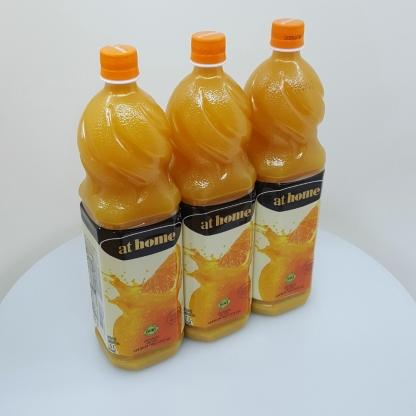-------1-5L: (77, 44, 185, 371), (165, 31, 257, 341), (242, 18, 326, 315)
